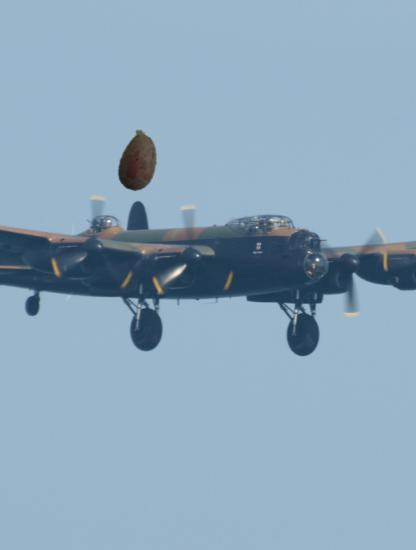Potato: (108, 130, 171, 193)
